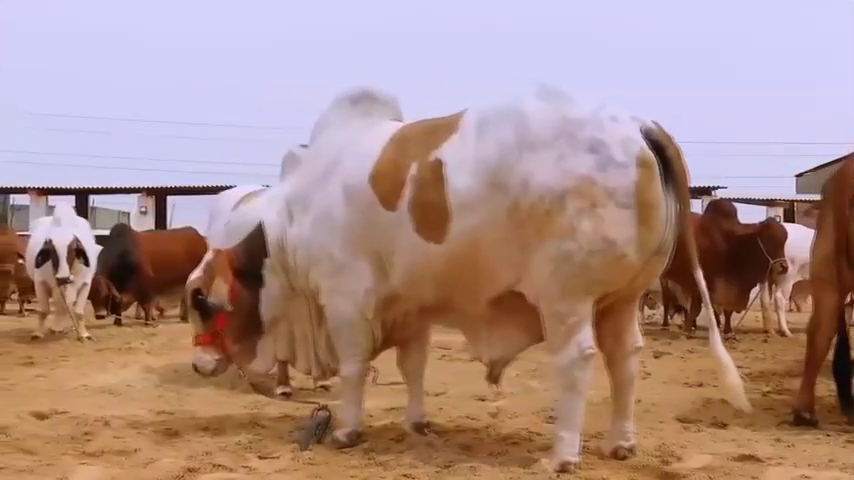bo: (186, 69, 759, 471), (791, 137, 854, 438), (666, 194, 790, 344), (88, 205, 213, 333), (23, 188, 99, 357), (764, 214, 854, 340), (2, 219, 35, 318)
